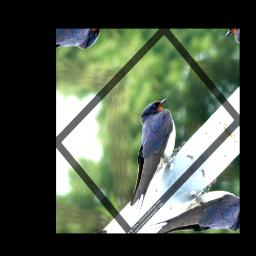Swallow: (85, 91, 210, 229)
